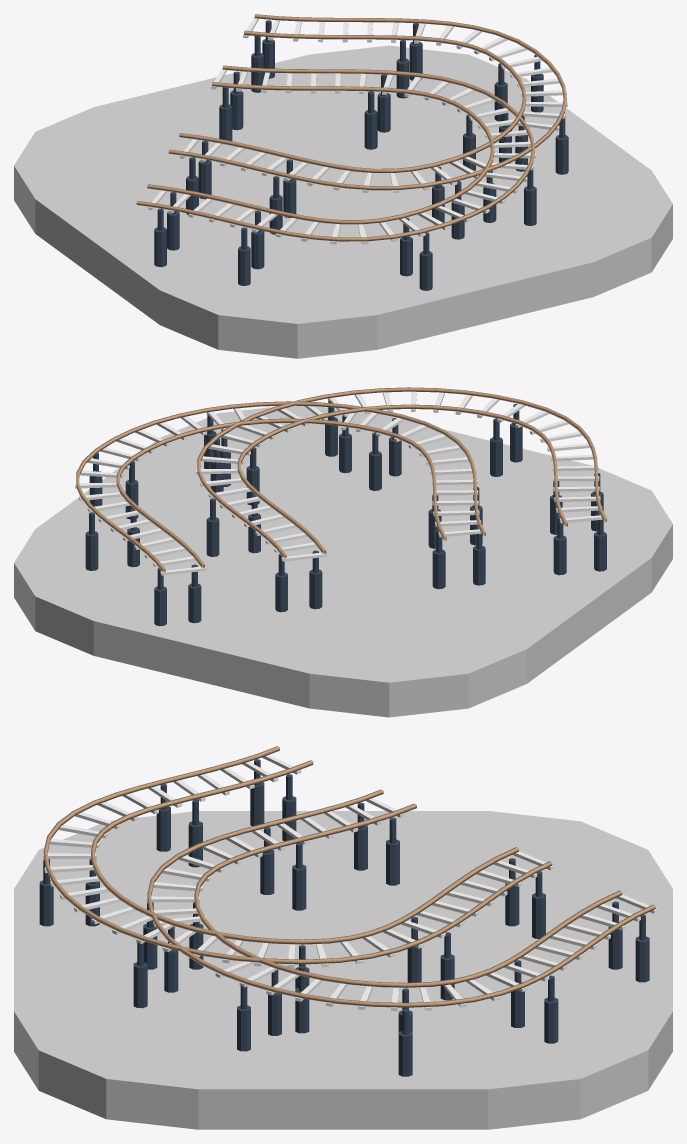
File: RC_Playground_07.fbx
The picture shows the model from 3 angles, top to bottom: view 1: azimuth 30°, elevation 25°; view 2: azimuth 150°, elevation 25°; view 3: azimuth 270°, elevation 25°; orthographic projection. The views are drawn at different scales.
Visible parts, largest first — view 1: Ground.001, Columns.013, Path.017, Path.019, Columns.015, RailStep.016, RailStep.018; view 2: Ground.001, Columns.013, Columns.015, RailStep.016, RailStep.018, Path.017, Path.019; view 3: Ground.001, Columns.015, Columns.013, Path.019, Path.017, RailStep.016, RailStep.018.
Part boxes in pixels (x1,y1,x2,y2): Ground.001: (14, 45, 672, 358); Columns.013: (154, 71, 536, 290); Path.017: (136, 65, 534, 241); Path.019: (168, 14, 566, 190); Columns.015: (186, 20, 568, 239); RailStep.016: (148, 68, 535, 244); RailStep.018: (180, 17, 567, 192); Ground.001: (14, 405, 672, 717); Columns.013: (206, 400, 606, 612); Columns.015: (85, 414, 485, 626); RailStep.016: (196, 391, 602, 561); RailStep.018: (75, 408, 481, 575); Path.017: (197, 387, 606, 558); Path.019: (76, 401, 485, 572); Ground.001: (14, 811, 672, 1129); Columns.015: (143, 802, 649, 1076); Columns.013: (39, 759, 545, 1033); Path.019: (147, 789, 655, 1007); Path.017: (43, 746, 552, 964); RailStep.016: (43, 755, 553, 967); RailStep.018: (146, 798, 657, 1011).
Size of the model in its own units: 2955 by 550 by 2955.
